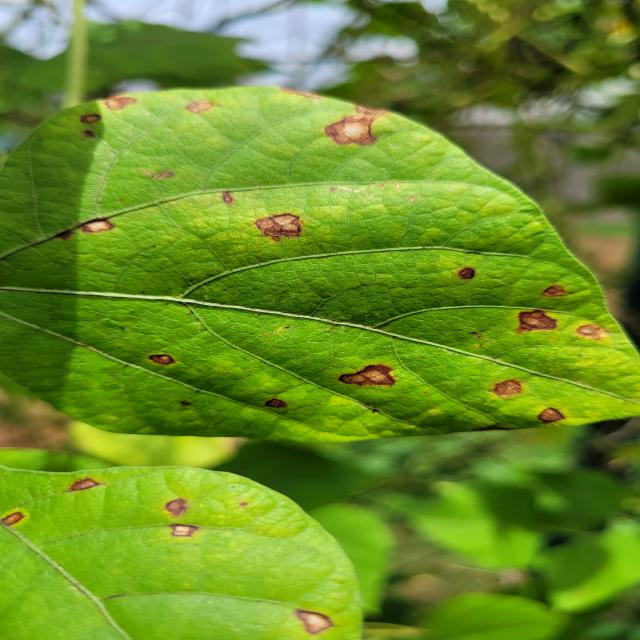Dolicos bean_cercospora leaf spot: (0, 80, 640, 447), (0, 473, 365, 640)
